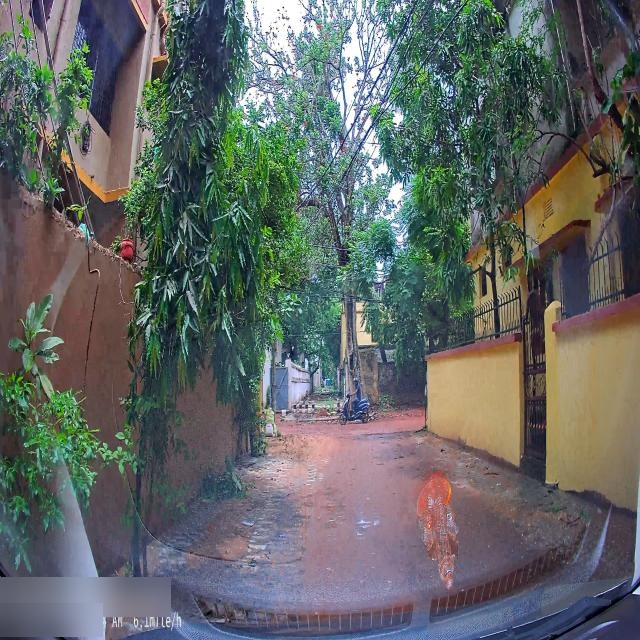pothole: (362, 429, 407, 436), (356, 515, 378, 528), (324, 505, 343, 510), (328, 517, 340, 523), (357, 532, 364, 541), (399, 465, 405, 472), (376, 463, 386, 467), (374, 437, 385, 440), (381, 442, 390, 445), (397, 443, 402, 448), (399, 456, 405, 460), (397, 438, 404, 441), (394, 456, 398, 461), (374, 455, 379, 459), (336, 471, 342, 474), (351, 468, 355, 471), (410, 452, 421, 453), (371, 449, 375, 450), (357, 438, 360, 439)
